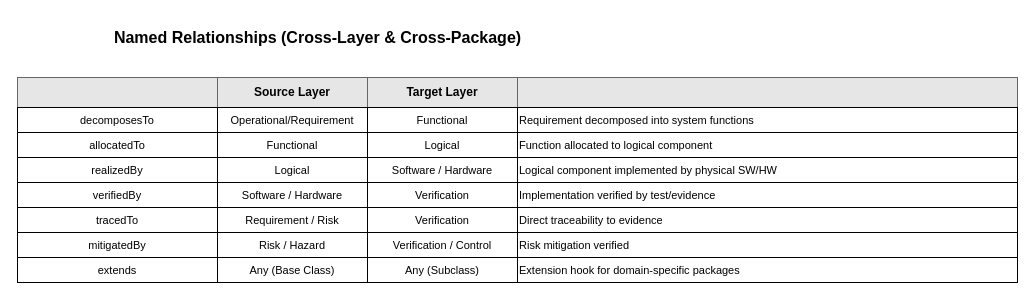
Some shapes in this 1035 by 300 pixel diagram are drawn without their labels. Here are the shapes that lost their labels. From the top down, the centre of each, then its label:
the point at 117,92: Relationship Name
the point at 767,92: Description
